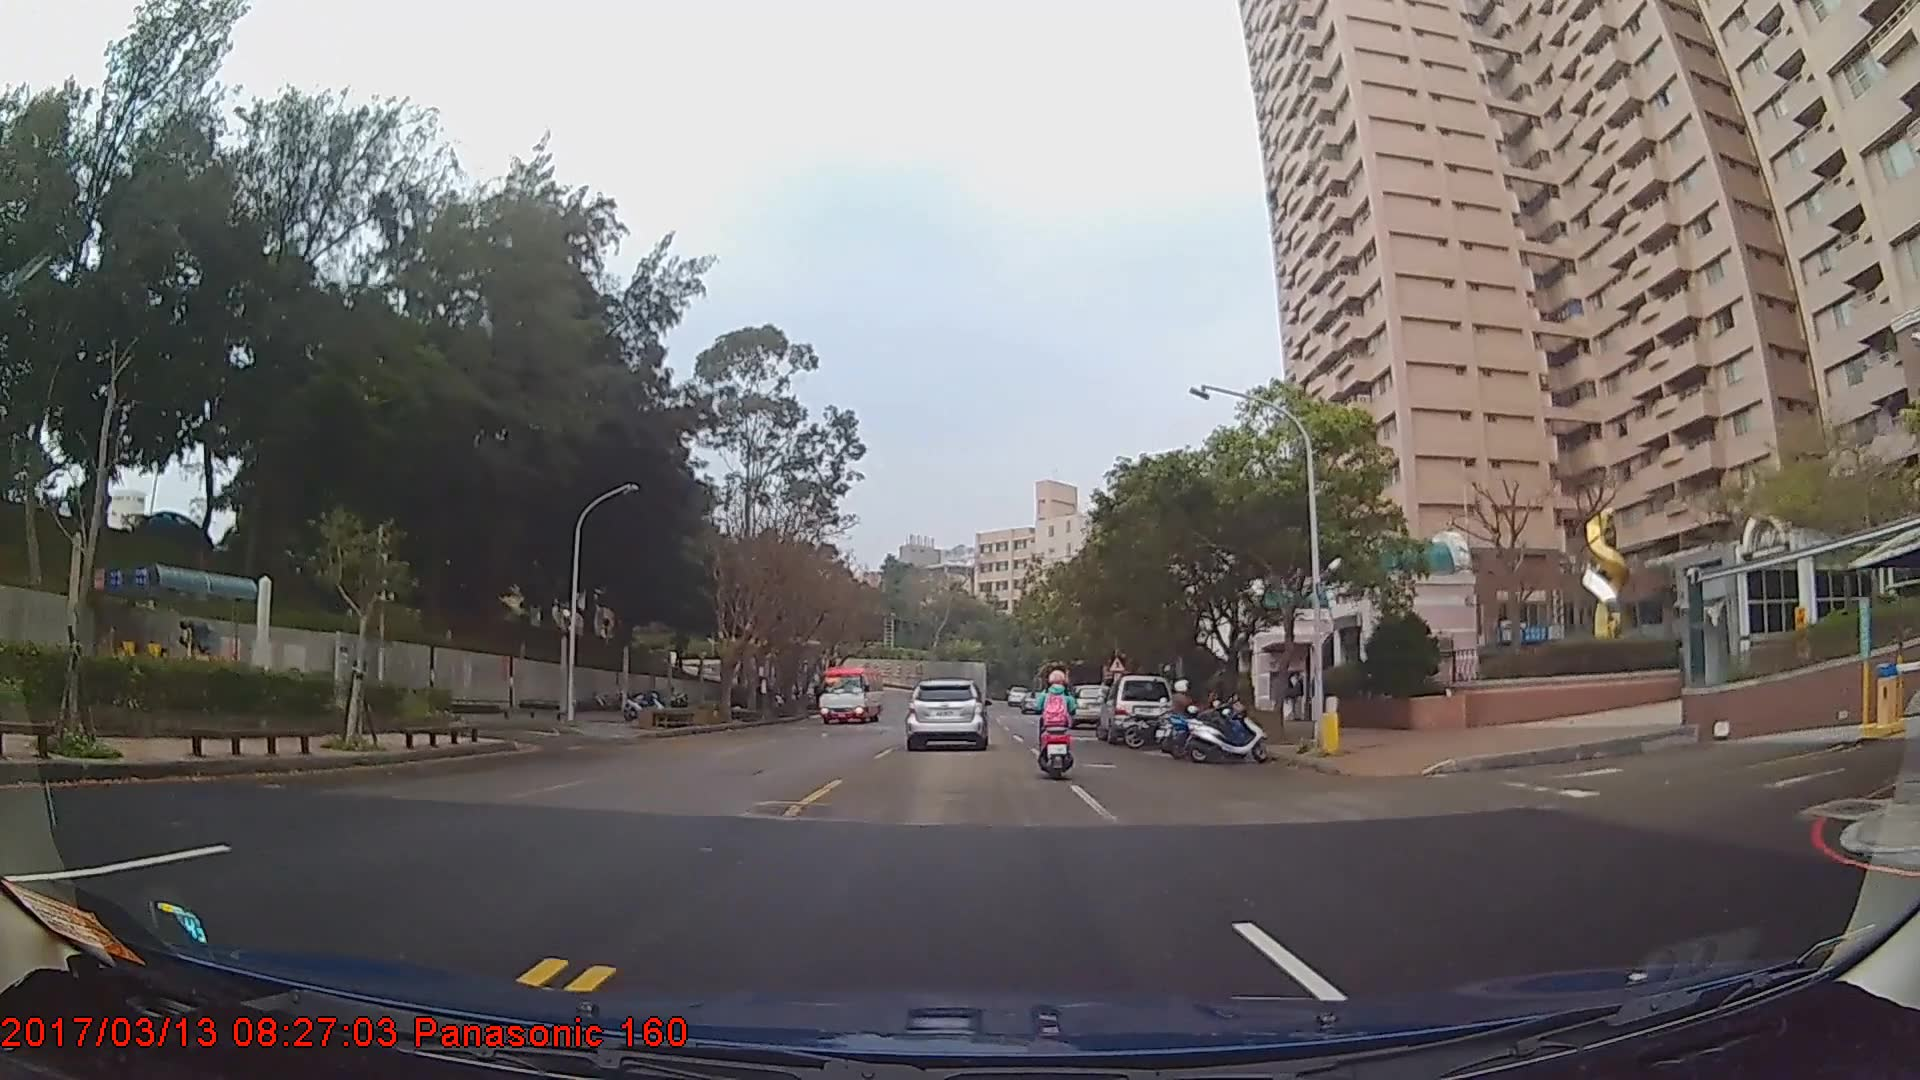rider: (1035, 670, 1081, 787), (1157, 679, 1205, 754)
vehicle: (905, 676, 987, 753), (1099, 673, 1176, 745), (816, 665, 883, 727), (1066, 681, 1113, 731)
